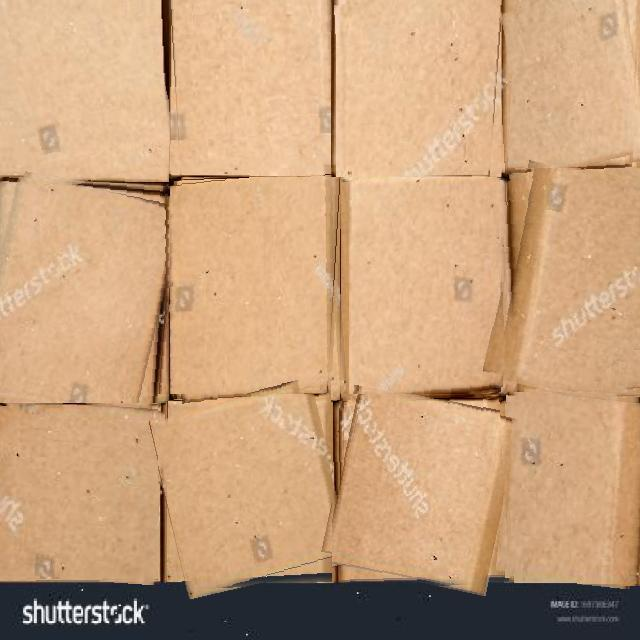BoxFace: (0, 176, 177, 408), (170, 177, 344, 403), (158, 394, 342, 592), (349, 177, 508, 406), (331, 394, 514, 589), (497, 168, 640, 402), (0, 0, 169, 182), (336, 0, 503, 179), (0, 403, 162, 582), (170, 0, 331, 175), (499, 392, 640, 586), (507, 0, 640, 176)
